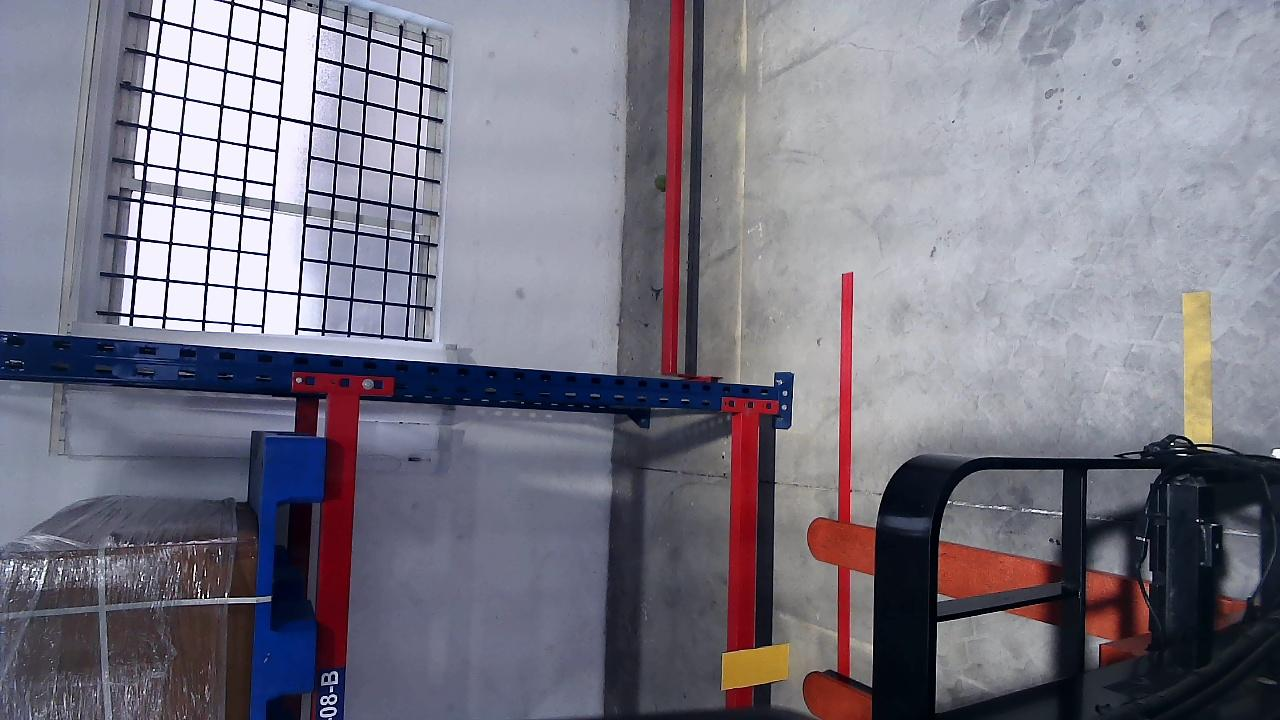h_rack: (729, 412, 764, 705), (327, 393, 347, 719)
orange_strip: (720, 644, 789, 690)
red_line: (837, 271, 855, 678)
small_pallet: (250, 438, 319, 719)
yellow_line: (1182, 291, 1214, 443)
